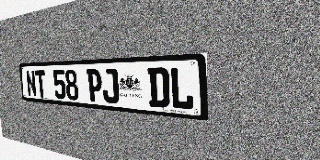5: (53, 70, 67, 99)
8: (64, 69, 79, 101)
D: (147, 67, 170, 108)
J: (101, 68, 119, 104)
L: (169, 67, 194, 110)
N: (25, 70, 37, 97)
P: (86, 69, 103, 103)
T: (35, 70, 47, 98)
